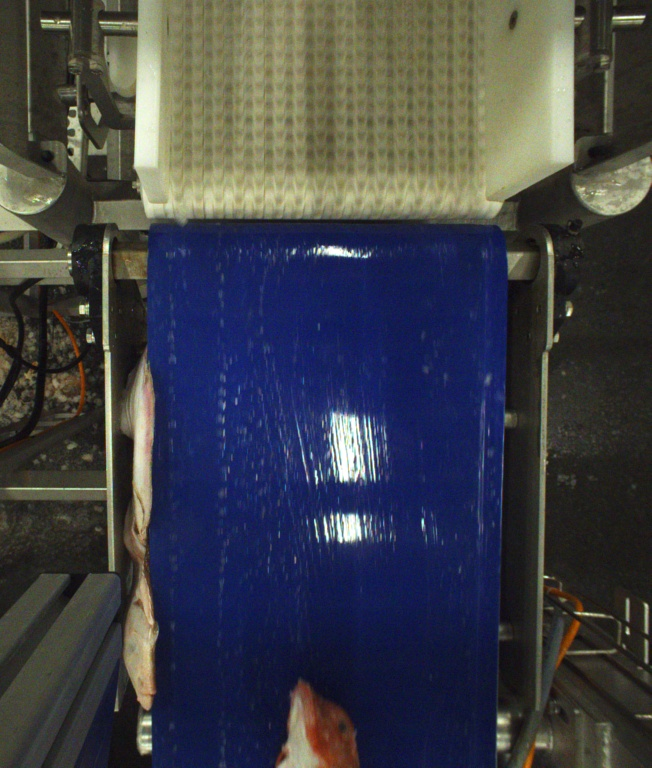GUU: (268, 680, 356, 768)
